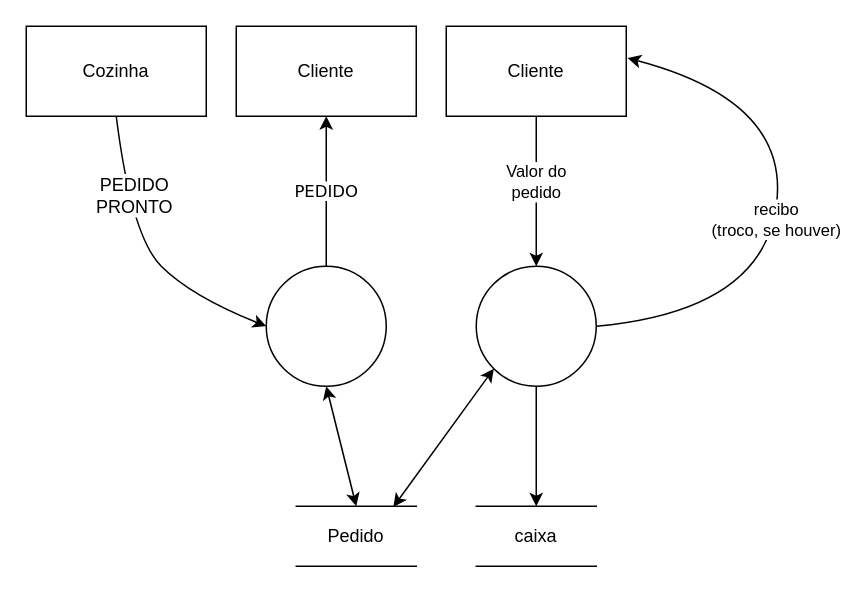
This 867x593 diagram has some shape labels left out. Here are the shapes that lost their labels. From the top down, the centre of each, then its label:
At point 325,325: "1 - Entregar pedido".
At point 535,325: "2 - Receber pagamento".
